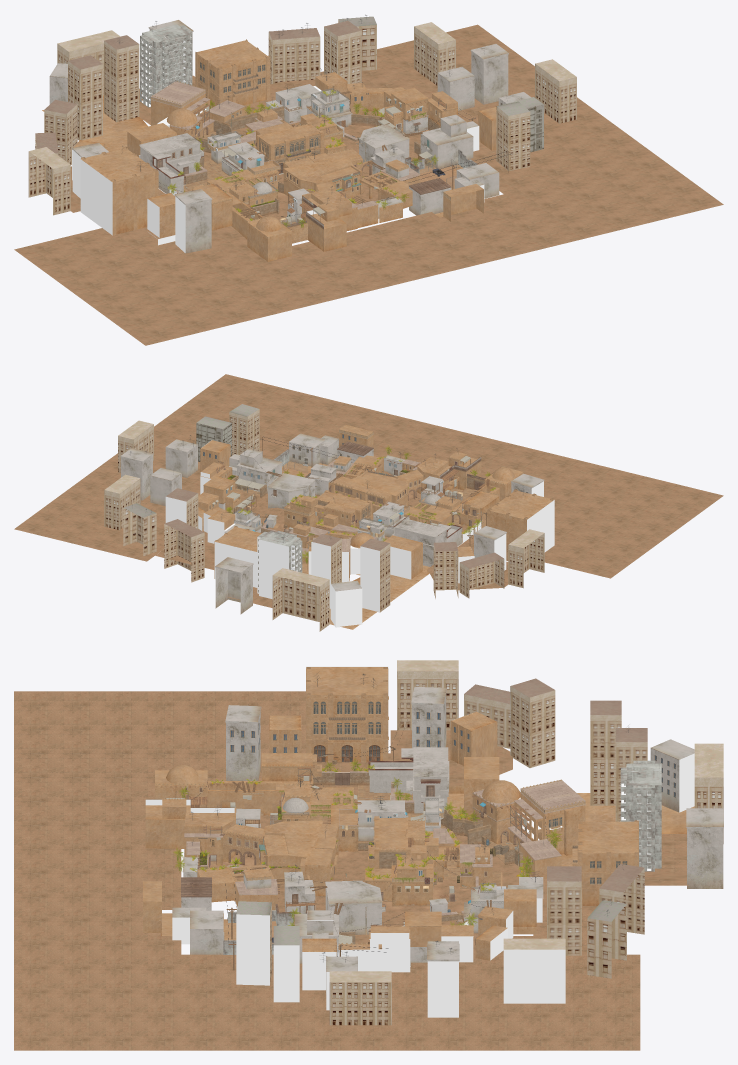
The picture shows the model from 3 angles, top to bottom: view 1: azimuth 30°, elevation 25°; view 2: azimuth 150°, elevation 25°; view 3: azimuth 270°, elevation 25°; orthographic projection. The views are drawn at different scales.
Parts seen in each view (by area): view 1: Sandstone_one_3, Sandstone_two_4, LightMap_Mesh_1, Cutout_2sided_0, Sandstone_Decals_2; view 2: Sandstone_one_3, Sandstone_two_4, LightMap_Mesh_1, Cutout_2sided_0, Sandstone_Decals_2; view 3: Sandstone_one_3, Sandstone_two_4, LightMap_Mesh_1, Cutout_2sided_0, Sandstone_Decals_2.
Part boxes in pixels (bbox=[...]): Sandstone_one_3: bbox=[14, 20, 723, 345]; Sandstone_two_4: bbox=[28, 16, 576, 231]; LightMap_Mesh_1: bbox=[72, 36, 484, 252]; Cutout_2sided_0: bbox=[152, 81, 461, 231]; Sandstone_Decals_2: bbox=[119, 15, 456, 218]; Sandstone_one_3: bbox=[14, 374, 723, 629]; Sandstone_two_4: bbox=[104, 404, 544, 631]; LightMap_Mesh_1: bbox=[165, 440, 554, 627]; Cutout_2sided_0: bbox=[204, 445, 505, 563]; Sandstone_Decals_2: bbox=[130, 435, 523, 548]; Sandstone_one_3: bbox=[14, 667, 723, 1050]; Sandstone_two_4: bbox=[146, 660, 723, 1025]; LightMap_Mesh_1: bbox=[145, 666, 694, 1017]; Cutout_2sided_0: bbox=[155, 752, 583, 944]; Sandstone_Decals_2: bbox=[184, 674, 628, 962].
Bounding box in the file's own units: 1.86 × 0.2726 × 1.55.
9 materials, 8 textured.
